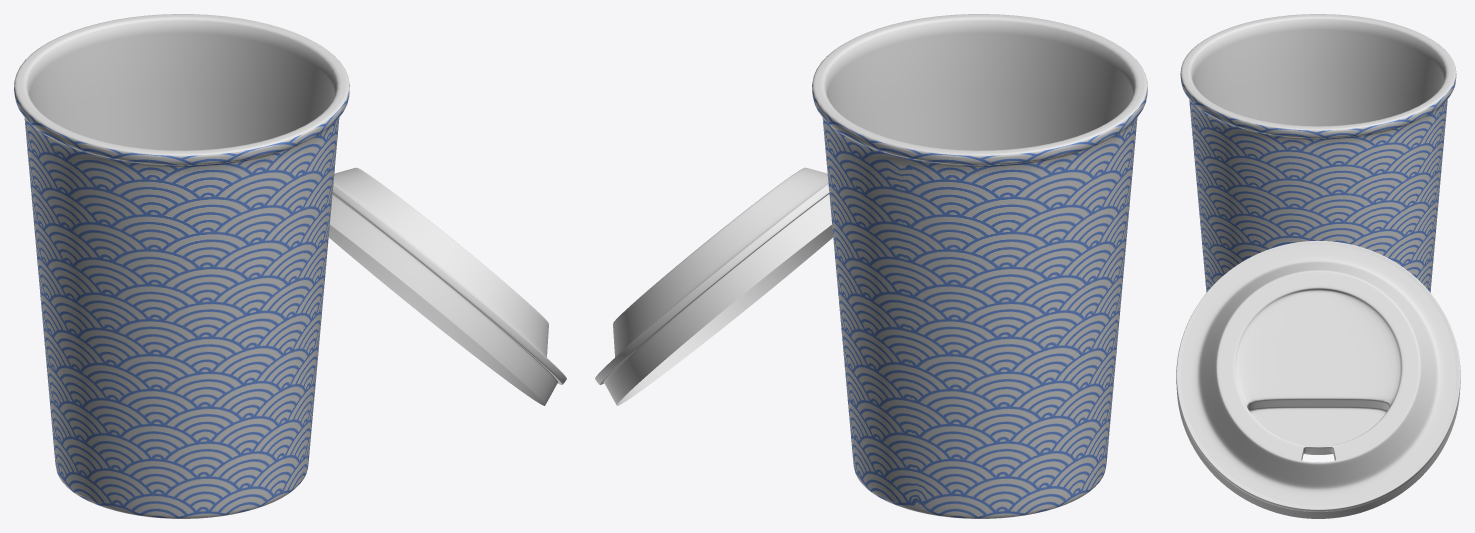
File: coffee_cup.glb
3 renders of one model, left to right at view 1: azimuth 30°, elevation 25°; view 2: azimuth 150°, elevation 25°; view 3: azimuth 270°, elevation 25°, orthographic. The views are drawn at different scales.
Visible parts, largest first — view 1: Cylinder_0, Circle_1; view 2: Cylinder_0, Circle_1; view 3: Circle_1, Cylinder_0.
Part boxes in pixels (x1=…): Cylinder_0: x1=14, y1=14, x2=349, y2=518; Circle_1: x1=328, y1=167, x2=566, y2=405; Cylinder_0: x1=812, y1=14, x2=1147, y2=518; Circle_1: x1=595, y1=167, x2=833, y2=405; Circle_1: x1=1176, y1=241, x2=1460, y2=518; Cylinder_0: x1=1180, y1=14, x2=1456, y2=292.
Bounding box in the file's own units: 3.57 × 2.62 × 2.15.
3 materials, 1 textured.
